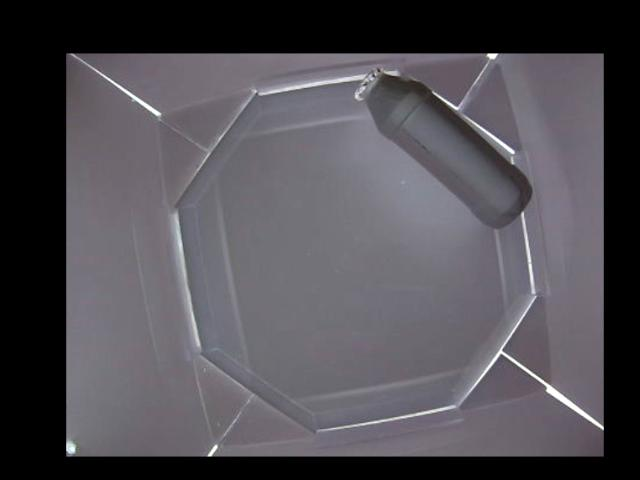Bottle: (351, 67, 532, 234)
